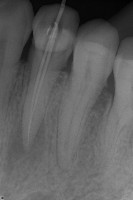Furcation Involvement: (7, 116, 46, 184)
